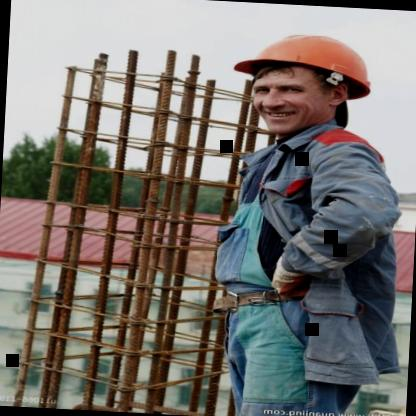helmet: (219, 16, 389, 142)
